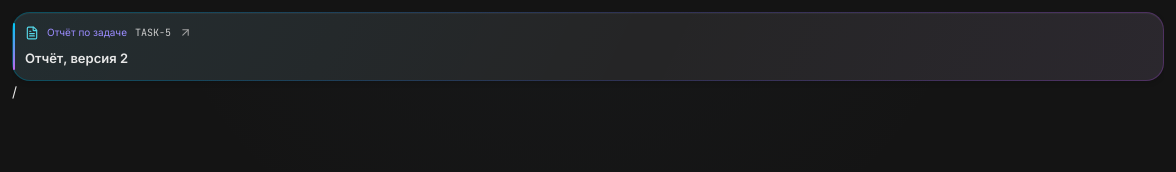
Test: открывает опубликованный отчёт на вкладке результата задачи
Click the button with aria-label "Отчёт по задаче: TASK-5 · Отчёт, версия 2": {"x": 87, "y": 32} [12, 12, 1164, 81]
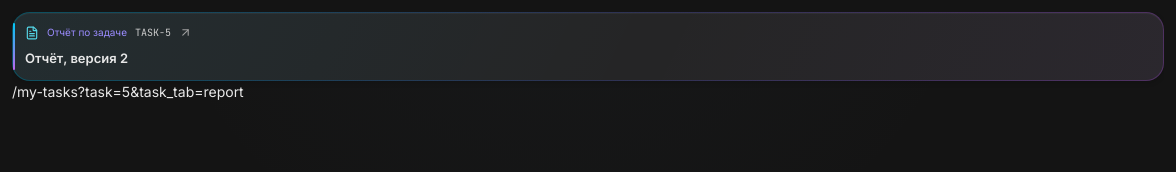
Check: the text named "Адрес" reads "/my-tasks?task=5&task_tab=report", box [12, 83, 244, 100]
